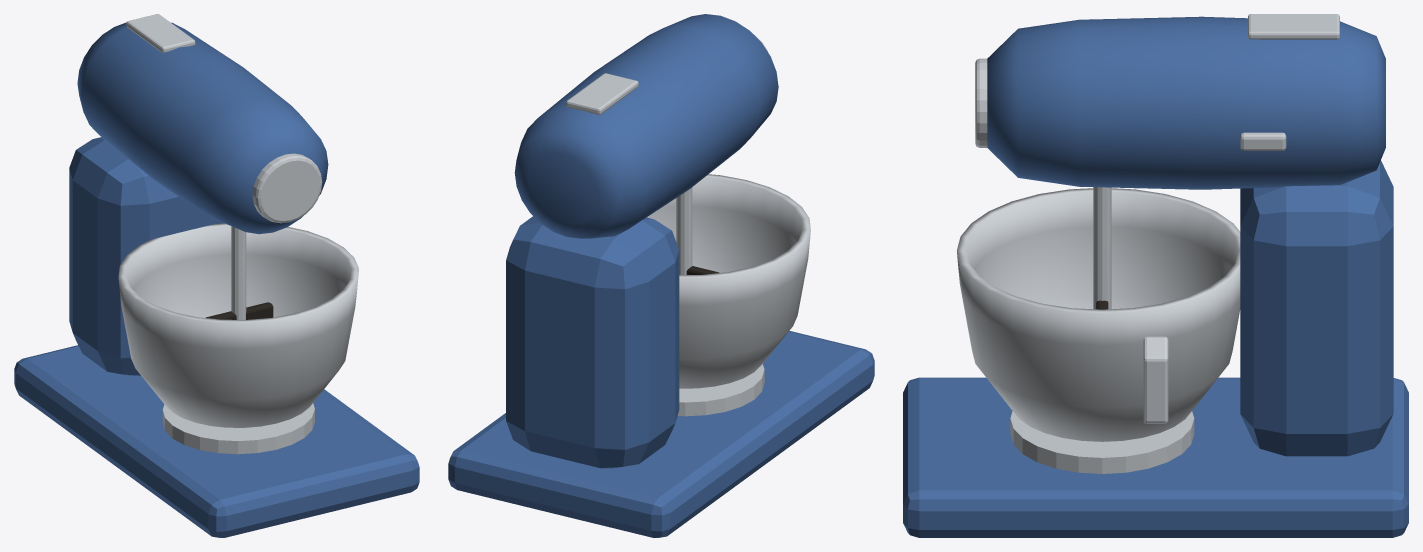
The model's file is hh_cat_stand_mixer.glb.
The picture shows the model from 3 angles, left to right: view 1: azimuth 30°, elevation 25°; view 2: azimuth 150°, elevation 25°; view 3: azimuth 270°, elevation 25°; orthographic projection. The views are drawn at different scales.
Visible parts, largest first — view 1: bowl, base, head, column, bowl_plate, hub_cap, trim, beater_shaft, beater; view 2: column, head, base, bowl, bowl_plate, trim, beater_shaft; view 3: head, bowl, base, column, bowl_plate, trim, bowl_handle, beater_shaft, hub_cap, speed_lever.
Boxes of the visible parts, box(x1,y1,x2,y2) form: bowl: box(118, 223, 358, 427); base: box(14, 345, 419, 537); head: box(77, 22, 328, 234); column: box(69, 137, 223, 375); bowl_plate: box(162, 403, 314, 454); hub_cap: box(252, 153, 322, 223); trim: box(126, 14, 195, 52); beater_shaft: box(231, 226, 246, 319); beater: box(205, 302, 273, 319); column: box(506, 216, 679, 468); head: box(514, 14, 778, 238); base: box(448, 331, 874, 537); bowl: box(647, 174, 810, 388); bowl_plate: box(677, 364, 764, 416); trim: box(566, 73, 638, 114); beater_shaft: box(676, 187, 692, 274); head: box(987, 16, 1385, 189); bowl: box(957, 188, 1240, 441); base: box(903, 377, 1408, 537); column: box(1240, 160, 1393, 456); bowl_plate: box(1010, 411, 1194, 473); trim: box(1248, 14, 1339, 39); bowl_handle: box(1143, 336, 1168, 423); beater_shaft: box(1093, 187, 1111, 309); hub_cap: box(975, 58, 987, 147); speed_lever: box(1240, 132, 1286, 150).
Bounding box in the file's own units: 0.22 × 0.34 × 0.34.
